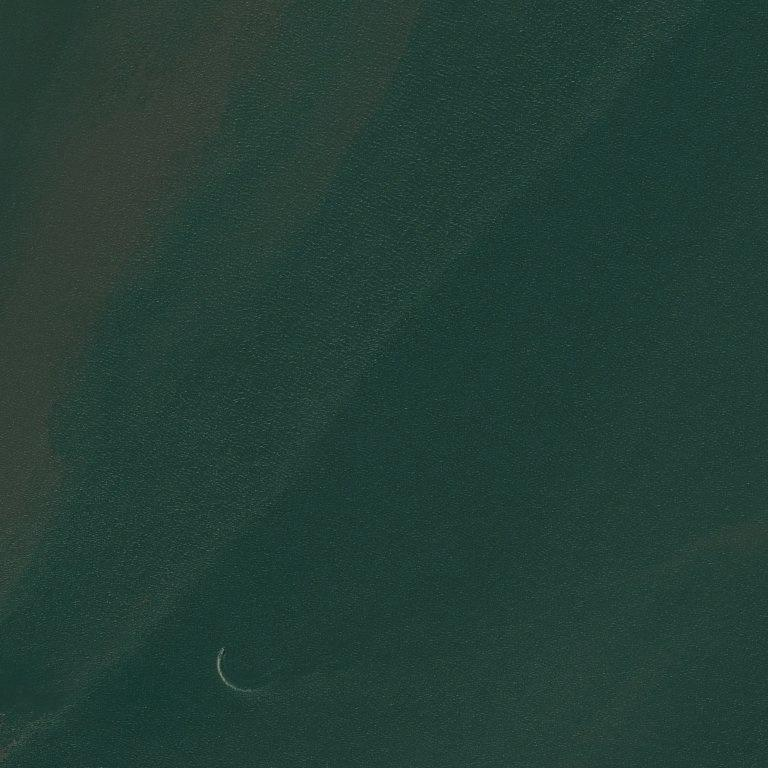ship: (219, 650, 222, 654), (223, 648, 224, 650), (68, 655, 69, 656), (216, 654, 217, 655)
